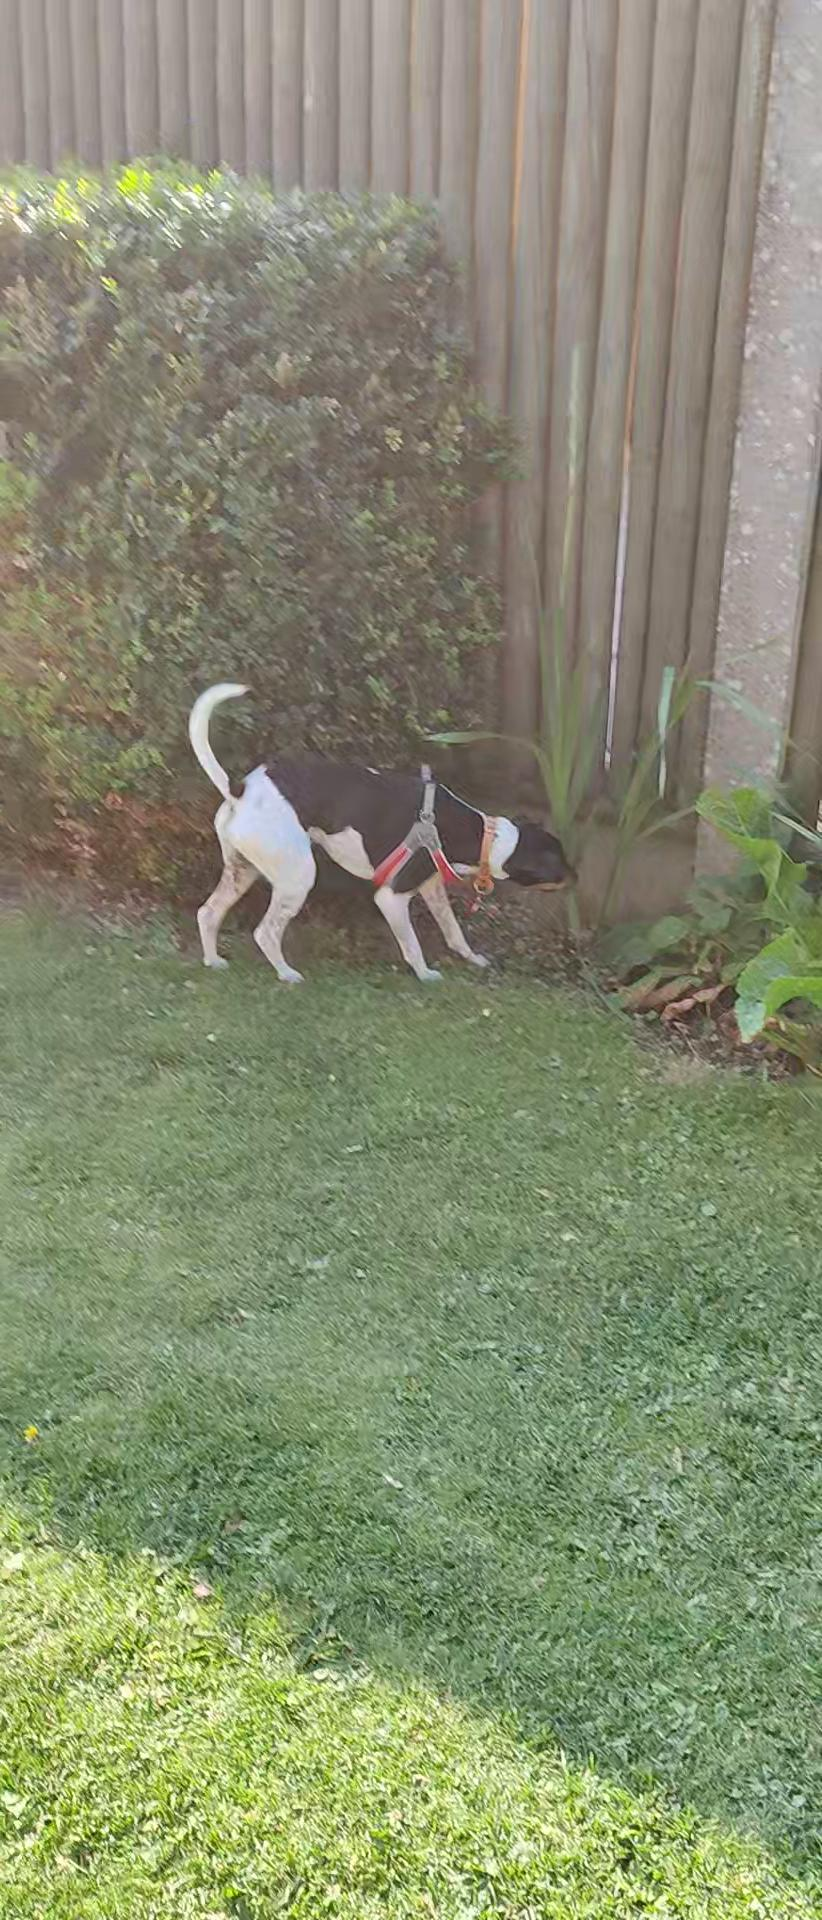Dog: (176, 675, 584, 992)
